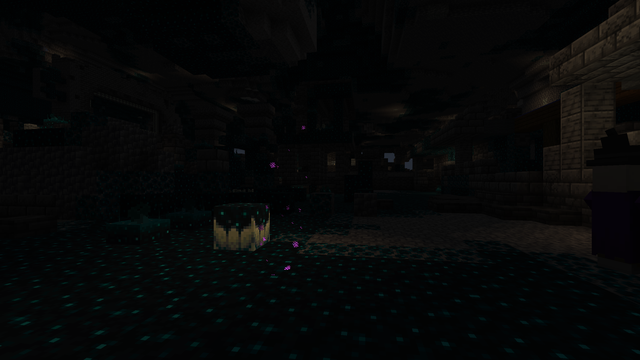sorcieres: (585, 160, 638, 275)
